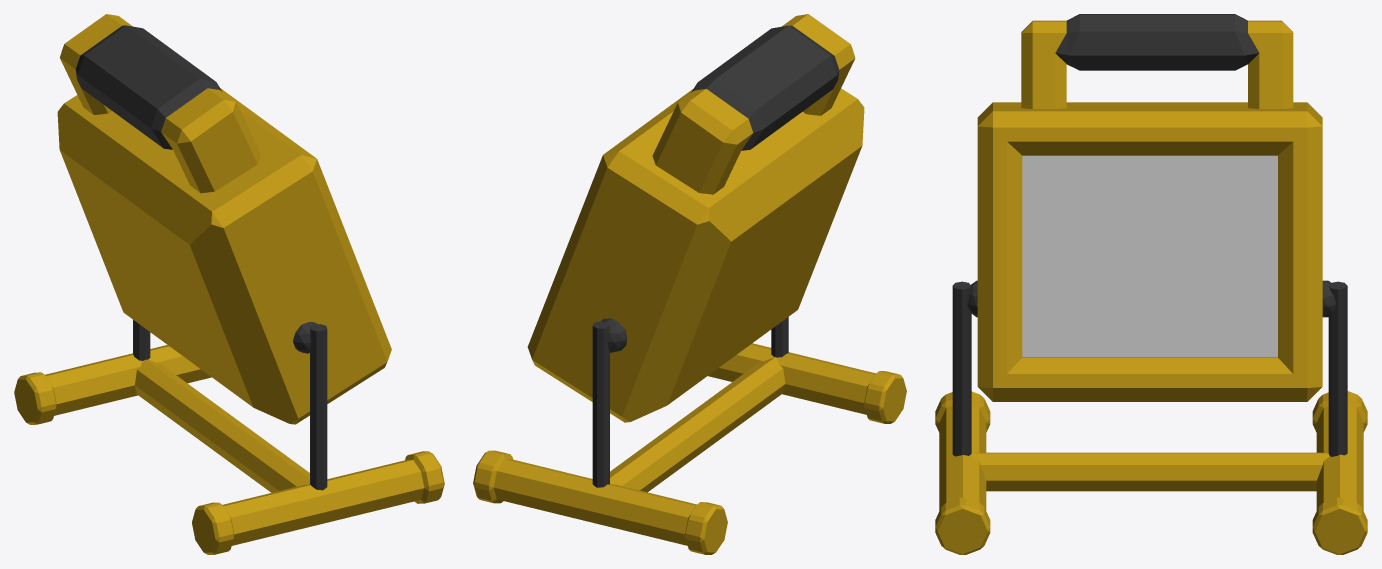
File: light.glb
The picture shows the model from 3 angles, left to right: view 1: azimuth 30°, elevation 25°; view 2: azimuth 150°, elevation 25°; view 3: azimuth 270°, elevation 25°; orthographic projection. The views are drawn at different scales.
Visible parts, largest first — view 1: Work LIght A; view 2: Work LIght A; view 3: Work LIght A.
Boxes of the visible parts, x1=… form: Work LIght A: x1=14, y1=14, x2=444, y2=554; Work LIght A: x1=473, y1=14, x2=906, y2=554; Work LIght A: x1=935, y1=14, x2=1367, y2=554.
Size of the model in its own units: 0.1301 by 0.2292 by 0.2.
